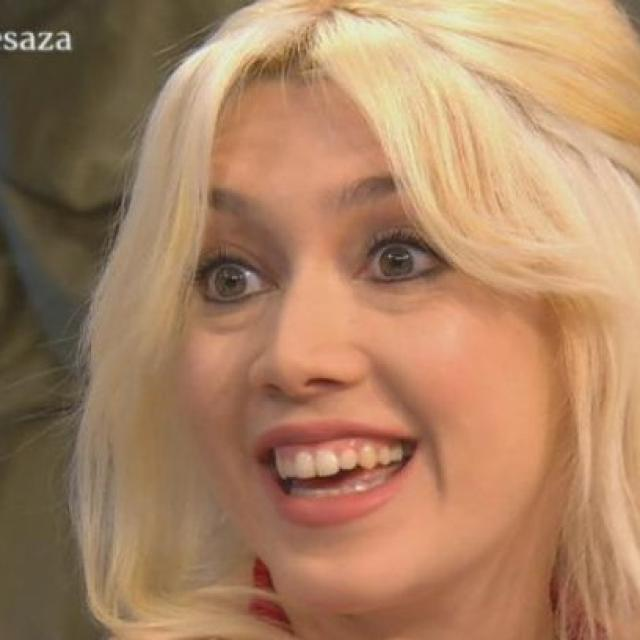Normal: (180, 72, 558, 612)
